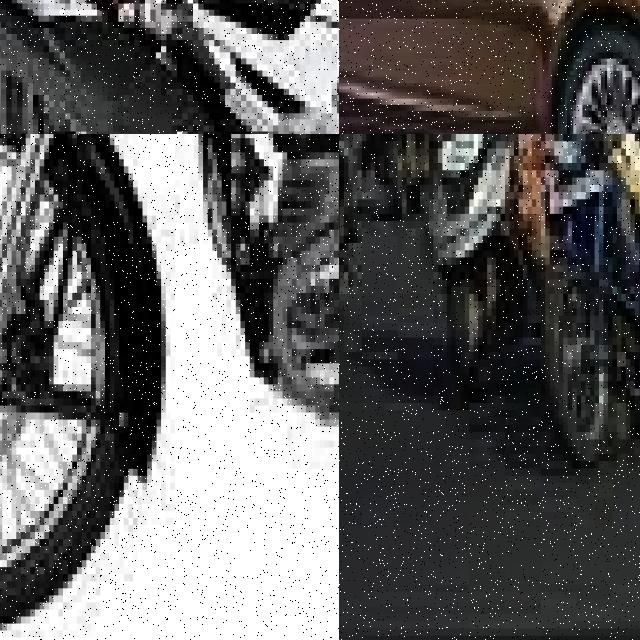bike: (0, 134, 339, 640), (0, 0, 339, 134), (522, 134, 640, 453), (438, 134, 523, 410), (348, 134, 428, 228)
car: (339, 0, 640, 134)
